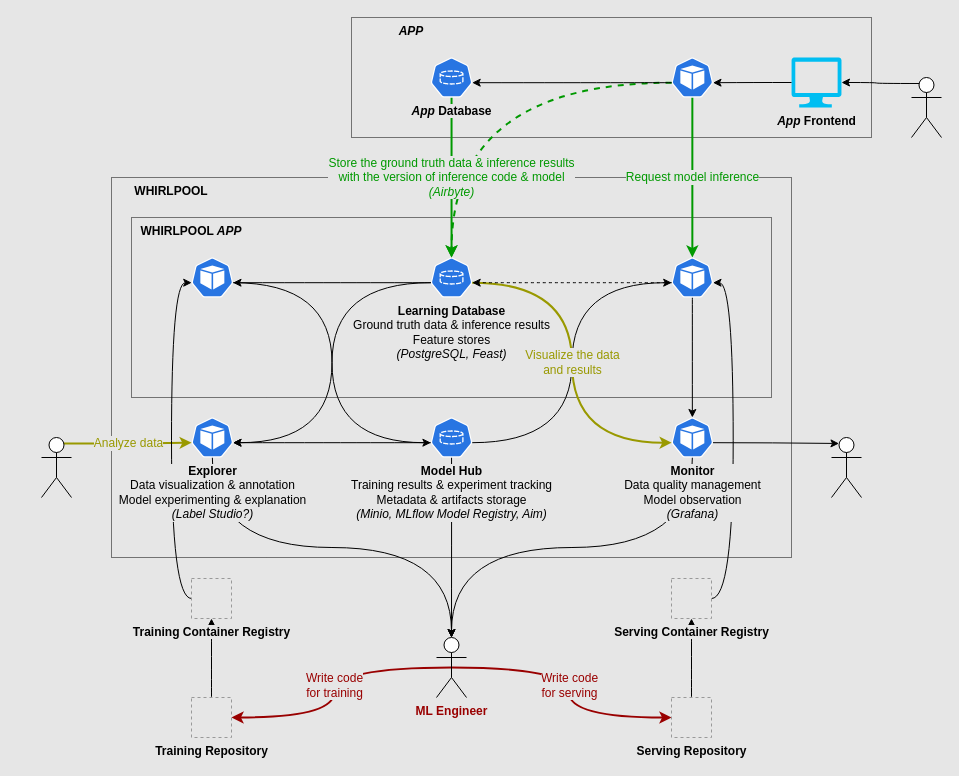
This 959x776 diagram has some shape labels left out. Grey dashed boxes stand in for pictures. Each missing label, with the centre of its shape:
App Backend: (691,77)
App Developer: (846,467)
Data Analyzer: (56,467)
Model Server Inference / deployment (KServe): (691,277)
Model Trainer Training & validating Workflow orchestration (Kubeflow): (211,277)
User: (926,107)
